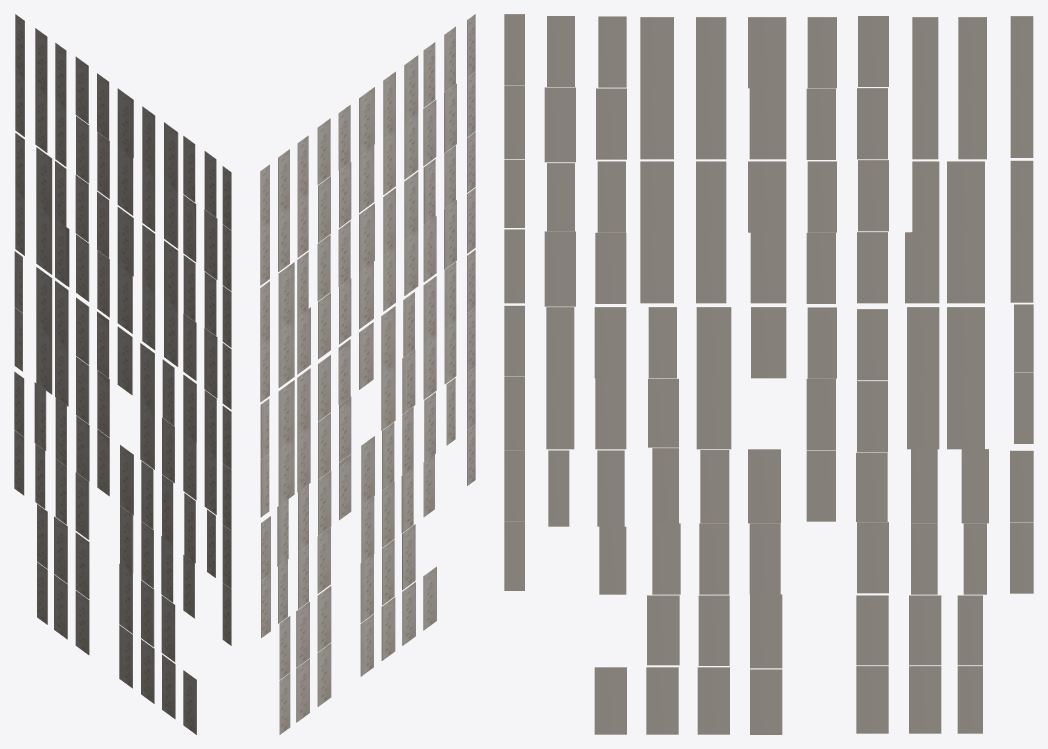
3 renders of one model, left to right at view 1: azimuth 30°, elevation 25°; view 2: azimuth 150°, elevation 25°; view 3: azimuth 270°, elevation 25°, orthographic. The views are drawn at different scales.
Parts seen in each view (by area): view 1: Plane007; view 2: Plane007; view 3: Plane007.
Part boxes in pixels (x1,y1,x2,y2): Plane007: (14, 14, 231, 734); Plane007: (260, 14, 475, 734); Plane007: (504, 14, 1033, 734).
Bounding box in the file's own units: 0.6001 × 121 × 80.84.
Materials: 1 (1 with a texture image).
